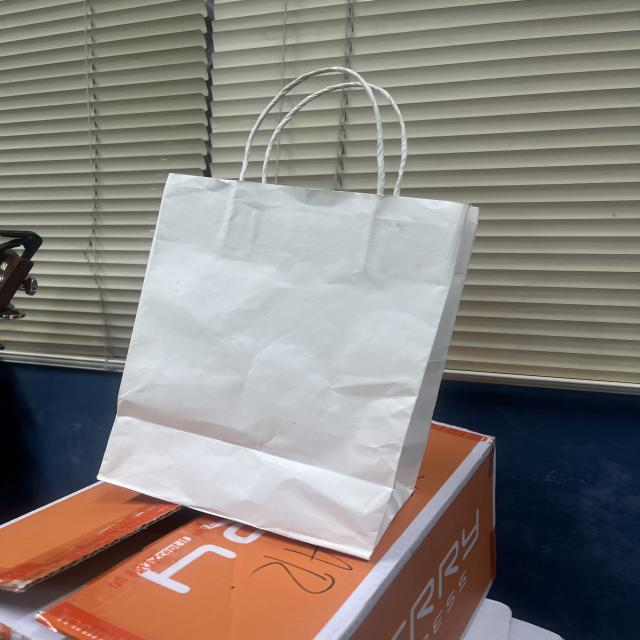paper bag: (67, 57, 509, 582)
